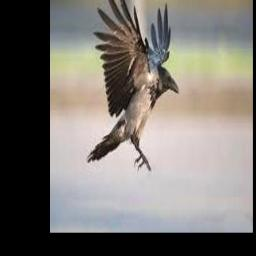Crow: (86, 0, 178, 171)
